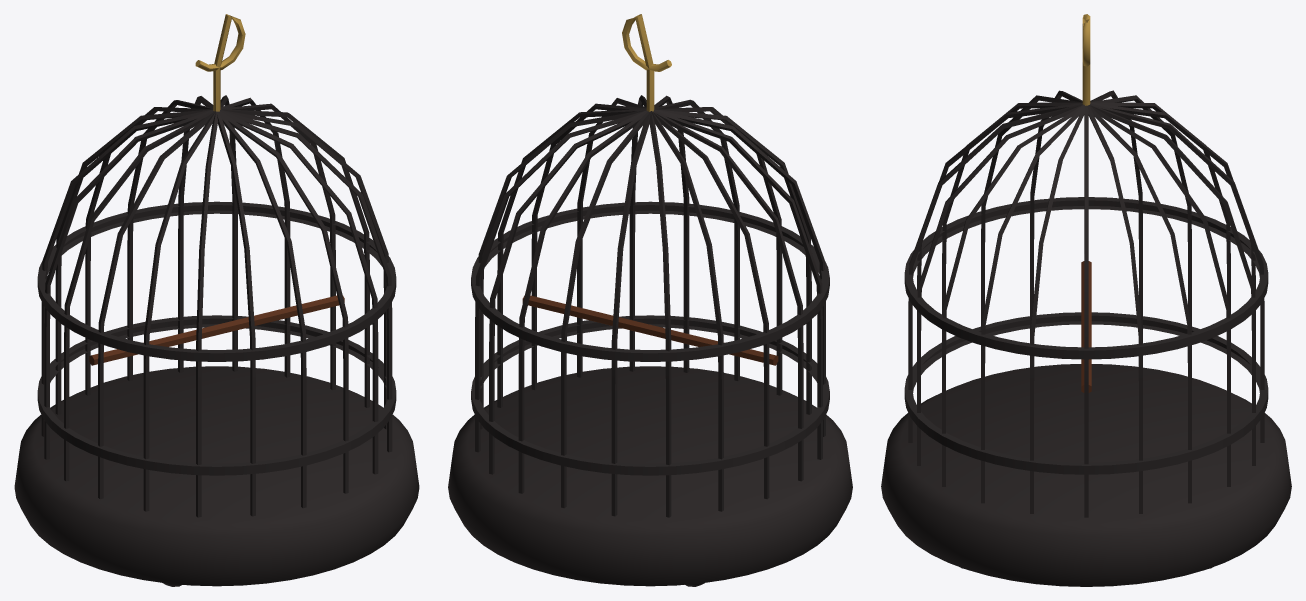
Rendered from PR_Birdcage.fbx.
3 views of the same model, side by side, from view 1: azimuth 30°, elevation 25°; view 2: azimuth 150°, elevation 25°; view 3: azimuth 270°, elevation 25° (orthographic).
Visible parts, largest first — view 1: PR_Birdcage_Iron, PR_Birdcage_WoodDark, PR_Birdcage_Brass; view 2: PR_Birdcage_Iron, PR_Birdcage_WoodDark, PR_Birdcage_Brass; view 3: PR_Birdcage_Iron, PR_Birdcage_WoodDark, PR_Birdcage_Brass.
Part boxes in pixels (x1,y1,x2,y2): PR_Birdcage_Iron: [14, 95, 419, 586]; PR_Birdcage_WoodDark: [89, 295, 344, 365]; PR_Birdcage_Brass: [195, 14, 245, 111]; PR_Birdcage_Iron: [448, 95, 852, 586]; PR_Birdcage_WoodDark: [522, 295, 778, 365]; PR_Birdcage_Brass: [622, 14, 671, 111]; PR_Birdcage_Iron: [881, 90, 1291, 586]; PR_Birdcage_WoodDark: [1081, 261, 1091, 392]; PR_Birdcage_Brass: [1082, 14, 1090, 105].
Size of the model in its own units: 0.42 by 0.5732 by 0.42.
